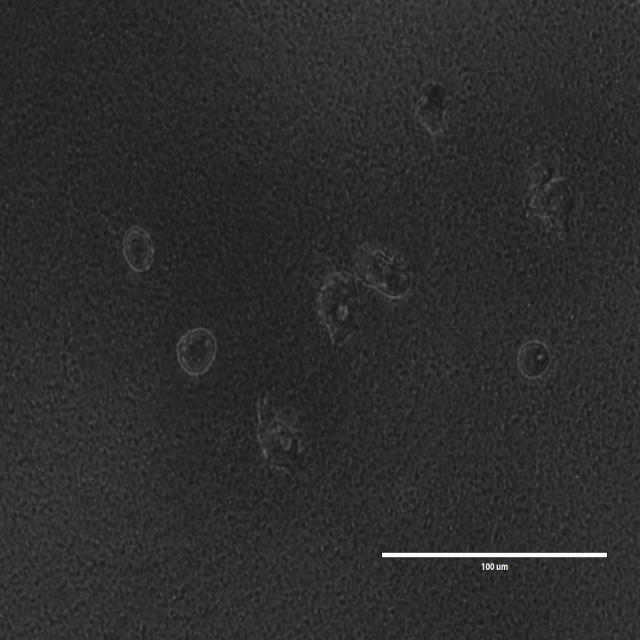Amoeba: (526, 168, 584, 238), (255, 382, 298, 468), (316, 270, 359, 348), (350, 250, 414, 300), (174, 326, 217, 378), (417, 80, 448, 136), (120, 228, 155, 275), (515, 338, 551, 382)
